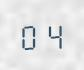four: (42, 19, 64, 49)
zero: (19, 20, 41, 50)
